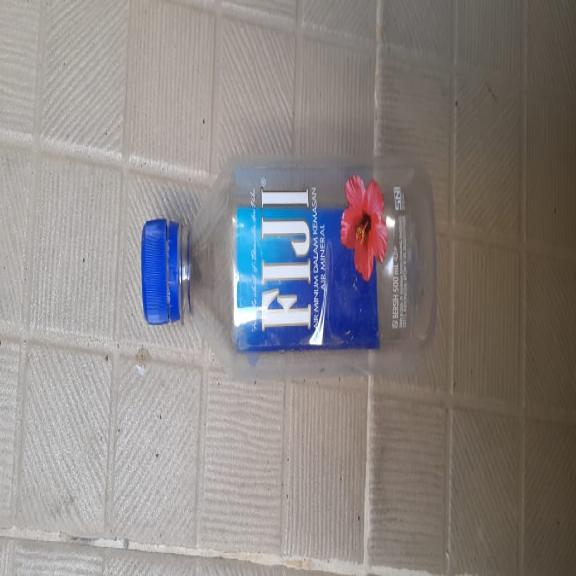Plastik: (141, 153, 437, 379)
